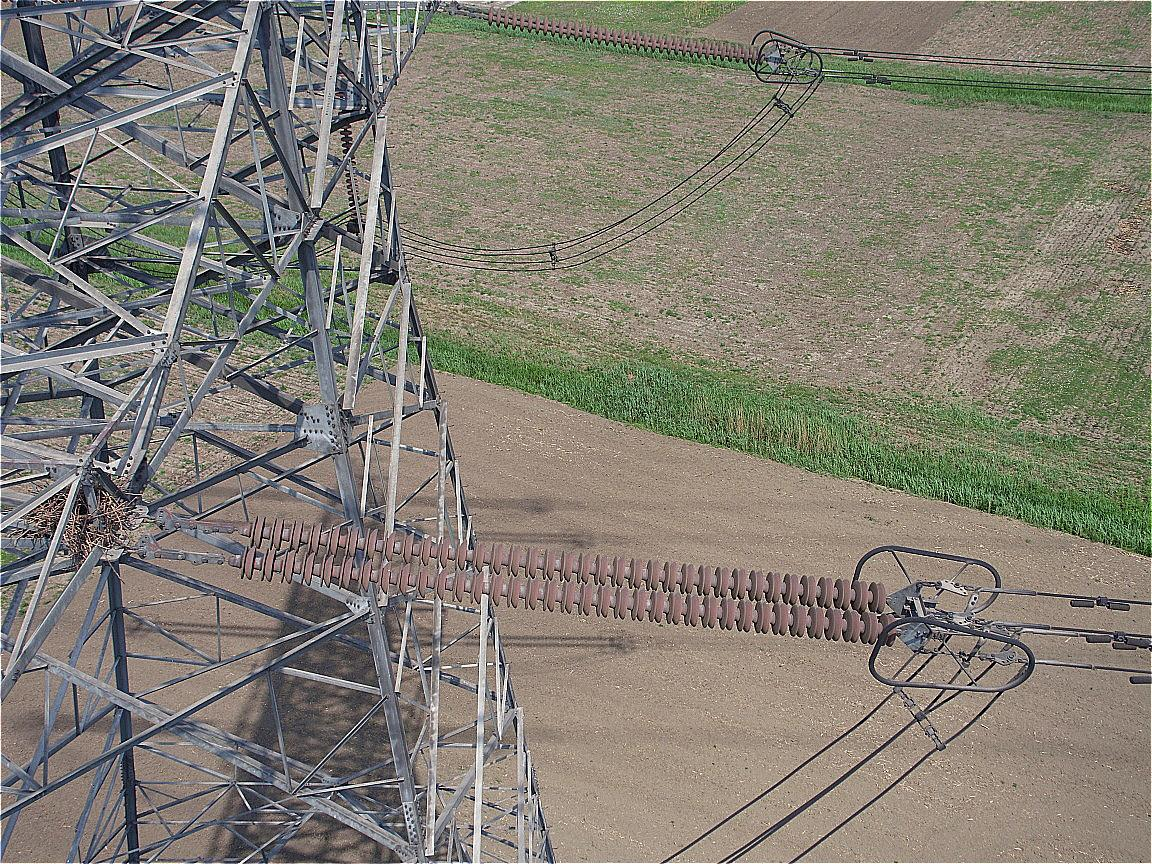insultor1: (487, 5, 761, 63)
insultor2: (239, 513, 899, 646)
